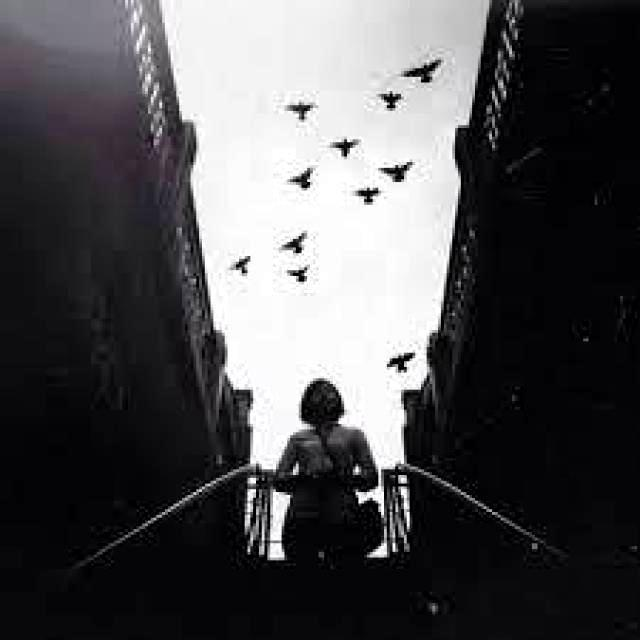bird: (403, 56, 450, 88), (286, 161, 318, 196), (275, 230, 310, 258), (385, 350, 420, 378), (378, 161, 417, 186), (286, 95, 316, 123), (350, 186, 382, 211), (370, 88, 404, 111), (286, 264, 316, 290), (225, 254, 252, 282), (330, 135, 360, 160)
